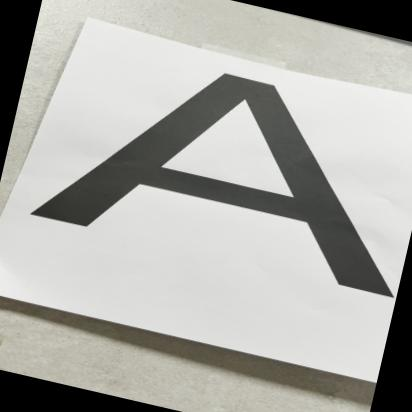seat: (18, 20, 412, 341)
